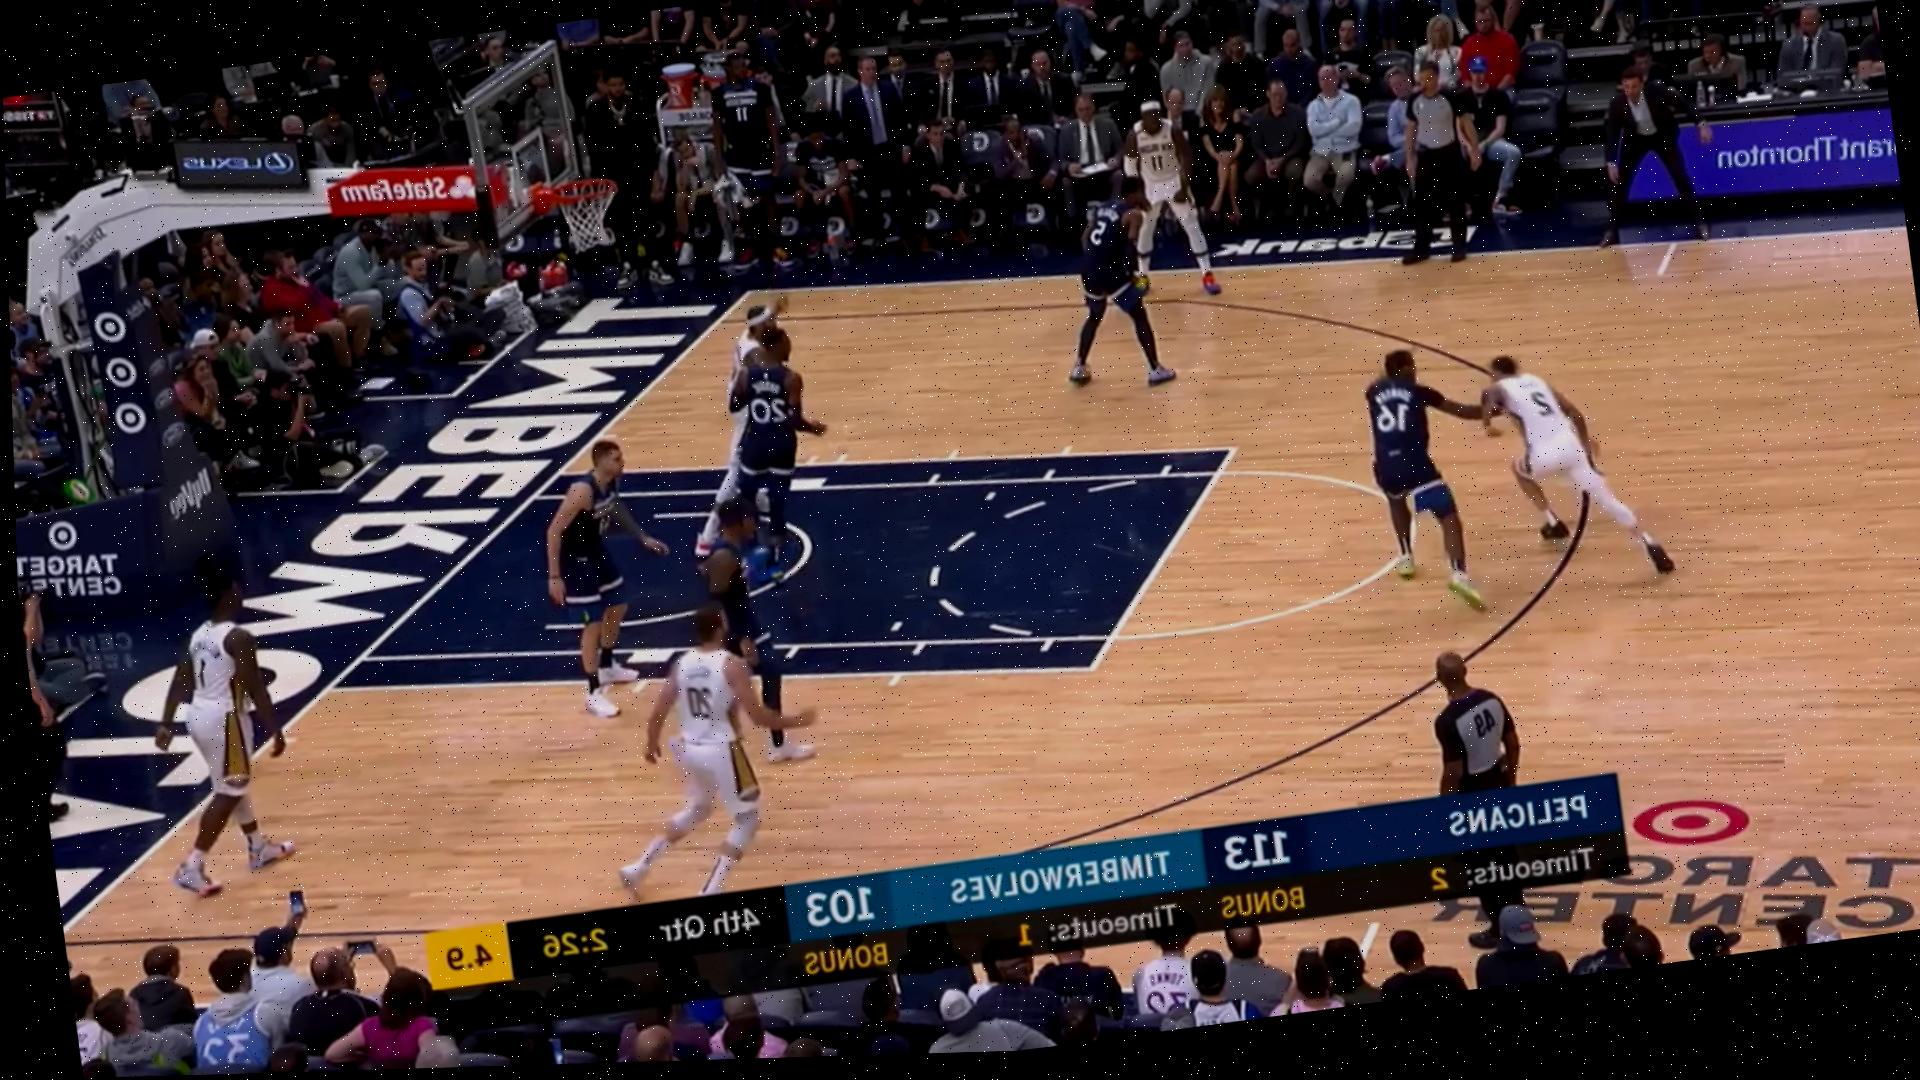no_foul: (1331, 322, 1602, 617)
